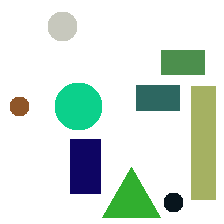circle: (55, 83, 101, 129), (48, 12, 76, 40), (10, 97, 28, 115), (164, 193, 182, 211)
rectangle: (191, 86, 215, 199), (70, 139, 100, 193), (136, 85, 179, 110), (161, 50, 204, 74)
triangle: (102, 167, 160, 217)
